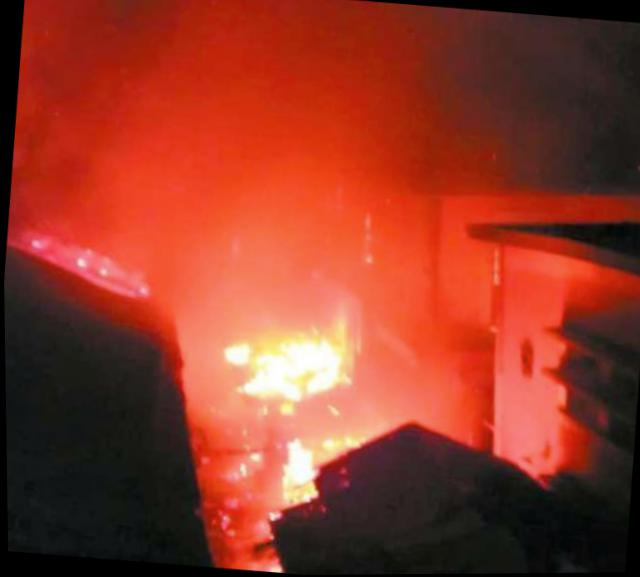fire: (247, 328, 350, 404), (277, 437, 320, 505), (224, 339, 252, 364)
